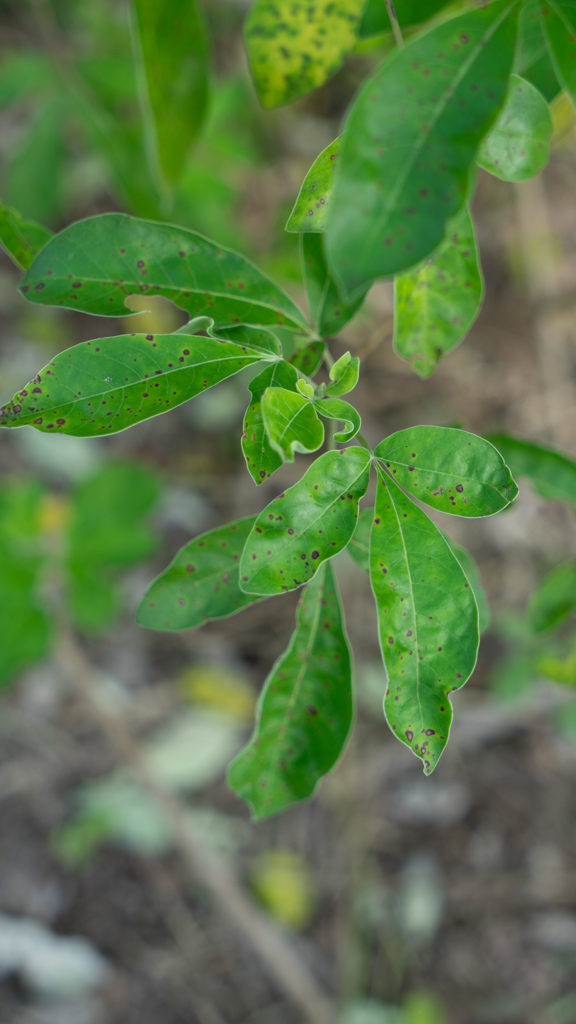Alternaria brassicicola: (23, 214, 295, 326), (2, 331, 247, 437), (370, 476, 474, 678), (235, 451, 368, 598), (396, 215, 488, 381), (138, 512, 251, 635), (384, 432, 499, 521), (262, 570, 357, 677), (238, 385, 282, 488)
